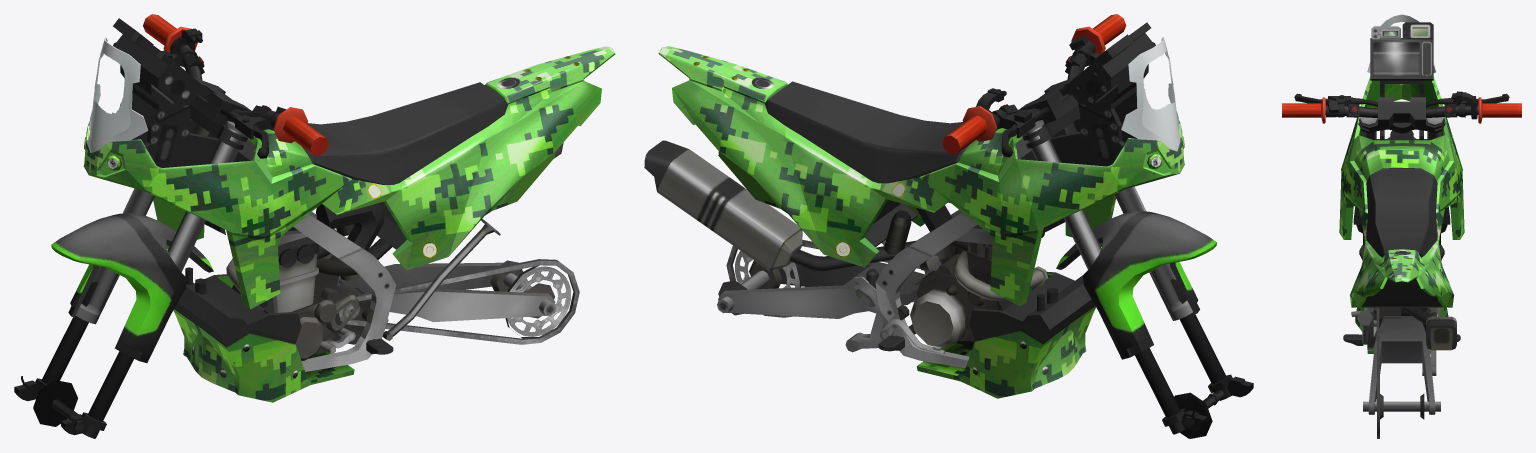
The model's file is Body_rally.fbx.
The picture shows the model from 3 angles, left to right: view 1: azimuth 30°, elevation 25°; view 2: azimuth 150°, elevation 25°; view 3: azimuth 270°, elevation 25°; orthographic projection. The views are drawn at different scales.
Parts seen in each view (by area): view 1: rally_engine.001, rally_frontfork.001, rally_rearfork.001; view 2: rally_engine.001, rally_frontfork.001, rally_rearfork.001; view 3: rally_engine.001, rally_rearfork.001, rally_frontfork.001.
Boxes of the visible parts, bbox=[...] form: rally_engine.001: bbox=[75, 14, 615, 402]; rally_frontfork.001: bbox=[14, 213, 213, 438]; rally_rearfork.001: bbox=[338, 259, 579, 344]; rally_engine.001: bbox=[644, 14, 1192, 398]; rally_frontfork.001: bbox=[1056, 211, 1253, 438]; rally_rearfork.001: bbox=[717, 239, 932, 318]; rally_engine.001: bbox=[1282, 14, 1521, 375]; rally_rearfork.001: bbox=[1363, 307, 1440, 438]; rally_frontfork.001: bbox=[1356, 137, 1447, 260].
Bounding box in the file's own units: 148 × 96.73 × 75.13.
